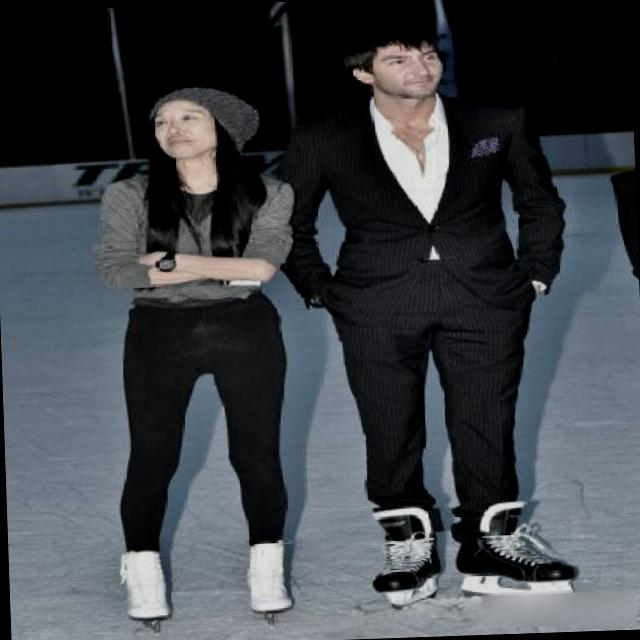Person: (276, 9, 612, 640), (60, 74, 335, 640)
